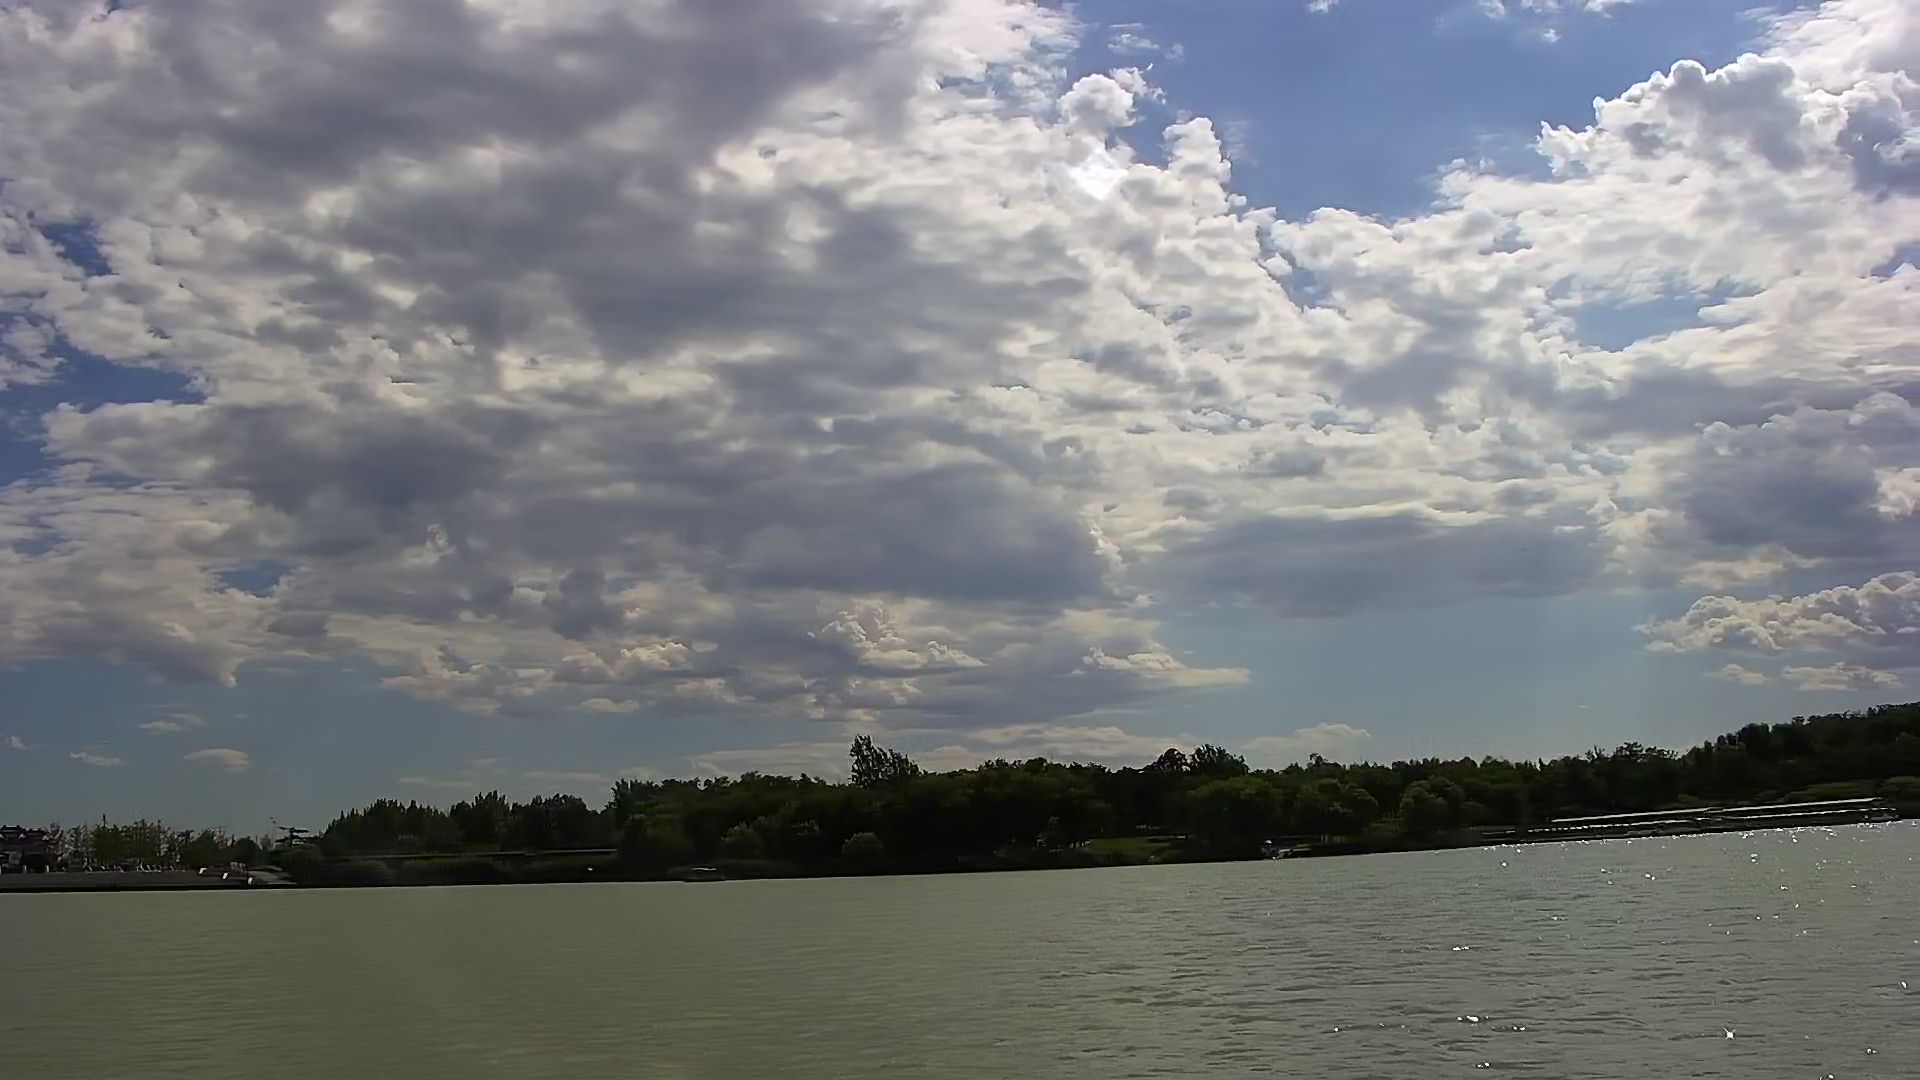harbor: (1531, 790, 1904, 845)
